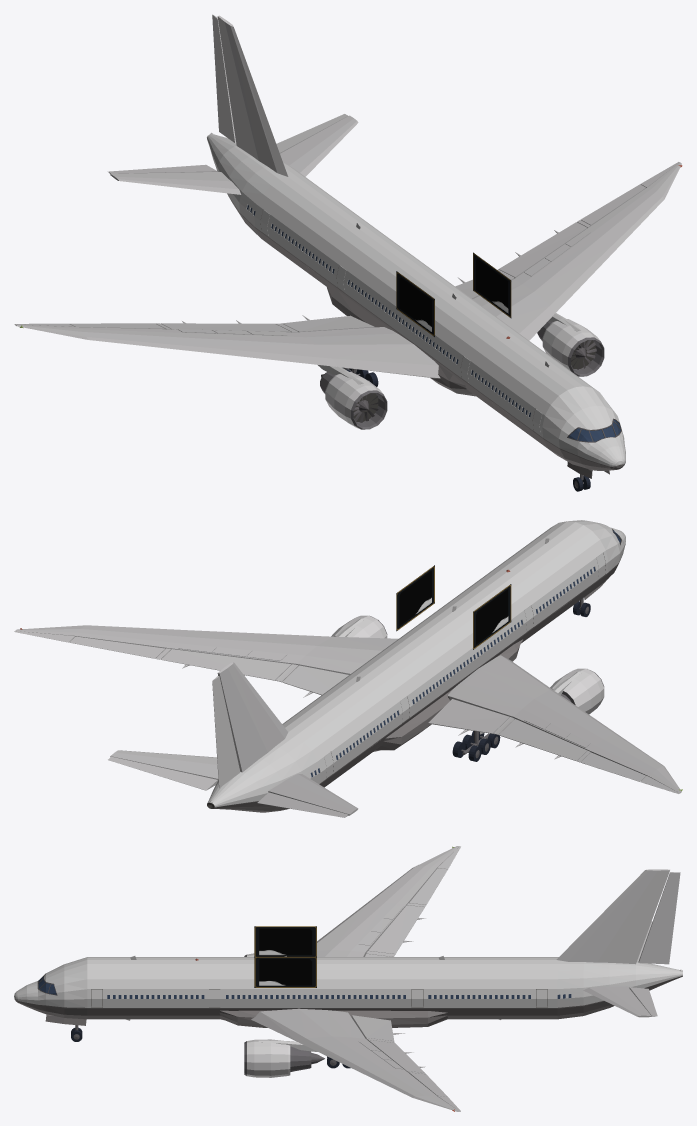
The model's file is Airliner.glb.
The picture shows the model from 3 angles, top to bottom: view 1: azimuth 30°, elevation 25°; view 2: azimuth 150°, elevation 25°; view 3: azimuth 270°, elevation 25°; orthographic projection. The views are drawn at different scales.
Visible parts, largest first — view 1: airframe, TYRANZ_Logo_1, TYRANZ_Logo_-1, rudder-mesh, flap-out-l-mesh, flap-in-r-mesh, flap-out-r-mesh; view 2: airframe, flap-out-l-mesh, rudder-mesh, flap-in-r-mesh, flap-out-r-mesh, TYRANZ_Logo_1, TYRANZ_Logo_-1, flap-in-l-mesh, elevator-l-mesh, aileron-l-mesh, elevator-r-mesh, spoiler-l-mesh (+2 smaller); view 3: airframe, TYRANZ_Logo_1, rudder-mesh, TYRANZ_Logo_-1, flap-out-r-mesh, flap-in-l-mesh, flap-out-l-mesh, aileron-r-mesh, spoiler-r-mesh.
Part boxes in pixels (<box>): airframe: <box>14,15,682,470</box>; TYRANZ_Logo_1: <box>473,252,511,318</box>; TYRANZ_Logo_-1: <box>396,271,434,336</box>; rudder-mesh: <box>212,14,236,143</box>; flap-out-l-mesh: <box>498,222,587,278</box>; flap-in-r-mesh: <box>282,315,374,332</box>; flap-out-r-mesh: <box>161,320,290,332</box>; airframe: <box>14,520,682,815</box>; flap-out-l-mesh: <box>161,649,291,680</box>; rudder-mesh: <box>212,676,240,788</box>; flap-in-r-mesh: <box>428,699,509,735</box>; flap-out-r-mesh: <box>499,719,587,761</box>; TYRANZ_Logo_1: <box>396,565,434,631</box>; TYRANZ_Logo_-1: <box>473,584,511,649</box>; flap-in-l-mesh: <box>282,665,348,697</box>; elevator-l-mesh: <box>108,756,217,790</box>; aileron-l-mesh: <box>69,636,165,658</box>; elevator-r-mesh: <box>257,792,348,817</box>; spoiler-l-mesh: <box>178,644,287,660</box>; airframe: <box>14,846,682,1111</box>; TYRANZ_Logo_1: <box>254,956,316,987</box>; rudder-mesh: <box>638,872,680,964</box>; TYRANZ_Logo_-1: <box>254,926,316,956</box>; flap-out-r-mesh: <box>368,905,425,954</box>; flap-in-l-mesh: <box>351,1015,404,1041</box>; flap-out-l-mesh: <box>368,1040,425,1072</box>; aileron-r-mesh: <box>409,868,447,904</box>; spoiler-r-mesh: <box>358,906,403,945</box>.
Bounding box in the file's own units: 60 × 17.95 × 64.
2 materials, 1 textured.
